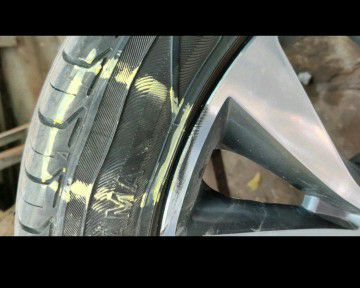CBU: (79, 93, 152, 171)
